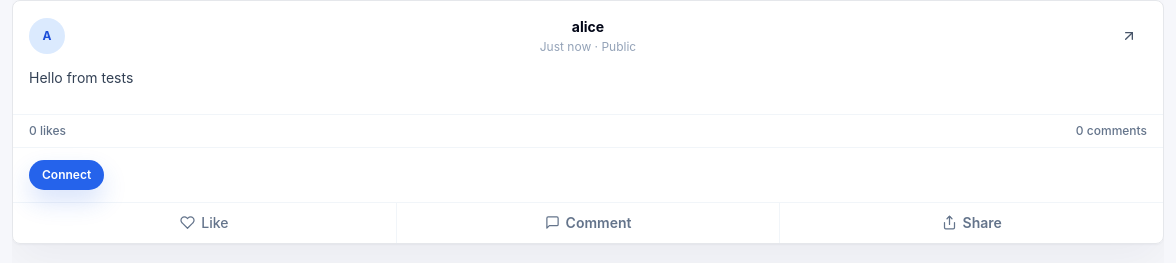
Test: like button updates optimistically
Click the button "Like": (204, 223) [13,203,396,243]
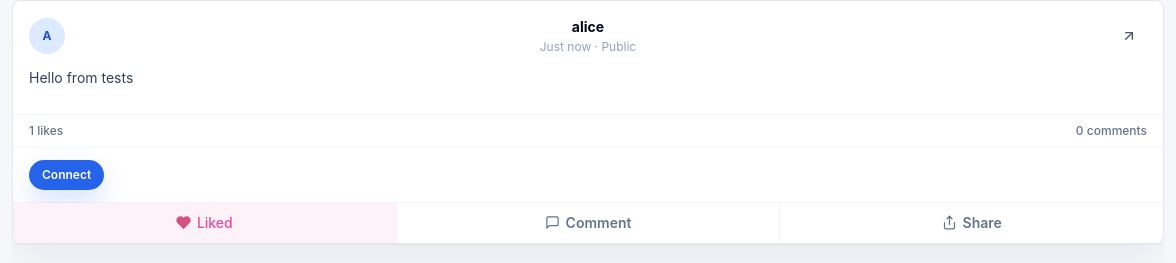
Expected: the button "Liked" is shown, [13,203,396,243]
Expected: the text "1 likes" is shown, [29,123,63,139]
